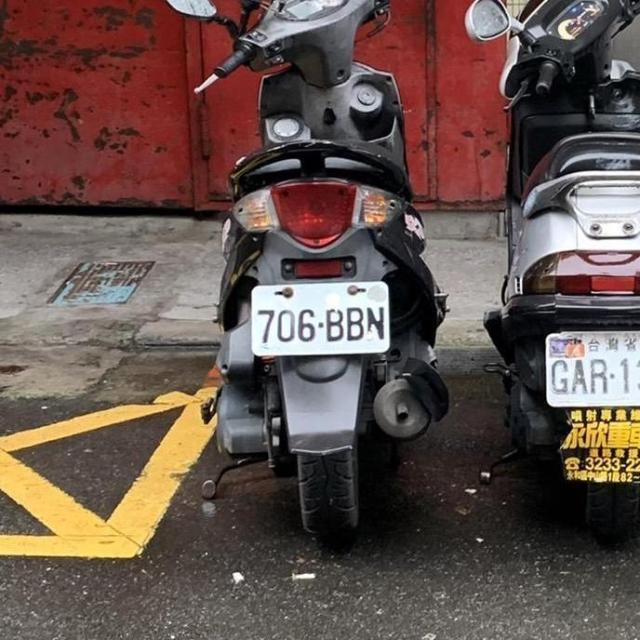W: (246, 276, 392, 362), (540, 324, 640, 416)
